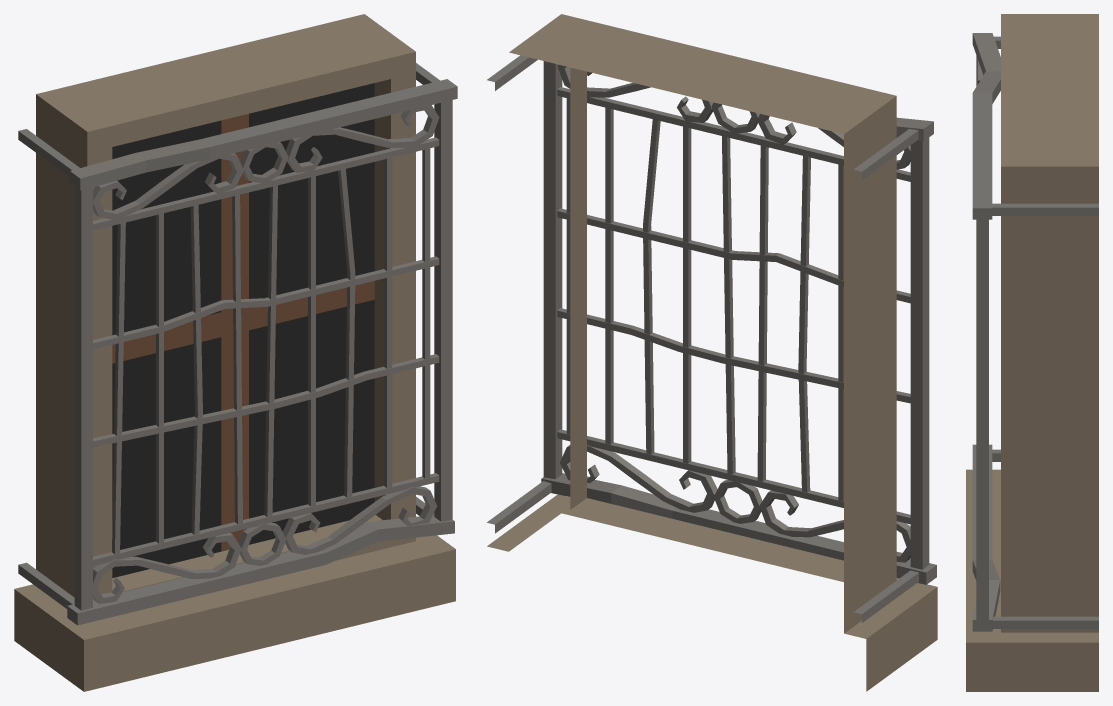
File: SM_Prop_Window_04.glb
The picture shows the model from 3 angles, left to right: view 1: azimuth 30°, elevation 25°; view 2: azimuth 150°, elevation 25°; view 3: azimuth 270°, elevation 25°; orthographic projection. The views are drawn at different scales.
Parts seen in each view (by area): view 1: SM_Prop_Window_04; view 2: SM_Prop_Window_04; view 3: SM_Prop_Window_04.
Boxes of the visible parts, x1,y1,x2,y2 form: SM_Prop_Window_04: (14, 14, 457, 691); SM_Prop_Window_04: (487, 14, 937, 691); SM_Prop_Window_04: (966, 14, 1098, 691).
Size of the model in its own units: 0.0112 by 0.0153 by 0.00358.
